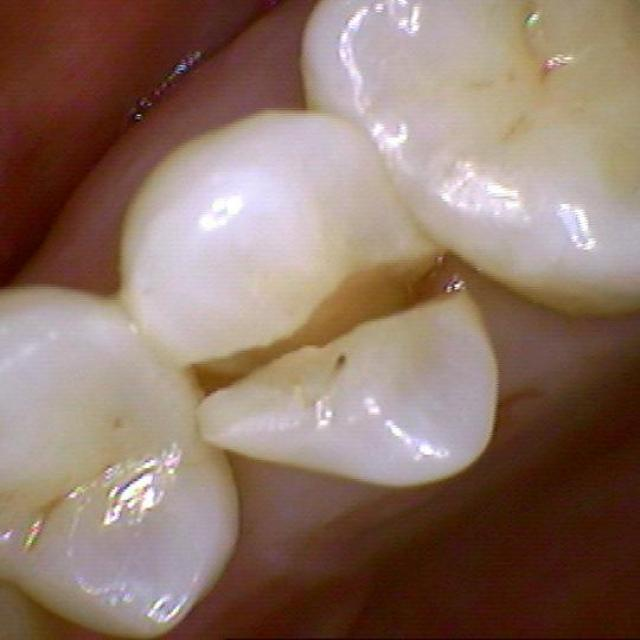Caries: (333, 354, 347, 370)
Crack: (184, 249, 471, 401)
Tooth: (120, 110, 499, 487), (301, 0, 639, 318), (0, 287, 242, 639)
